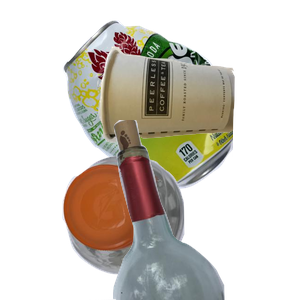glass: (89, 120, 300, 300)
metal: (60, 18, 300, 198)
plastic: (60, 152, 237, 300)
trash: (95, 44, 300, 180)
